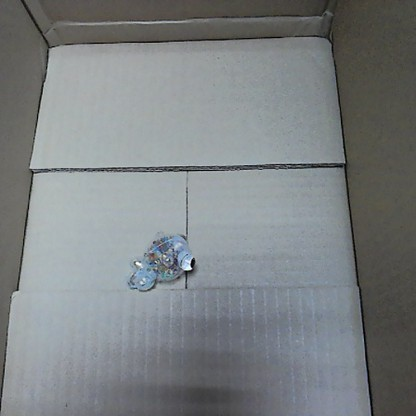whitefish: (126, 227, 197, 293)
